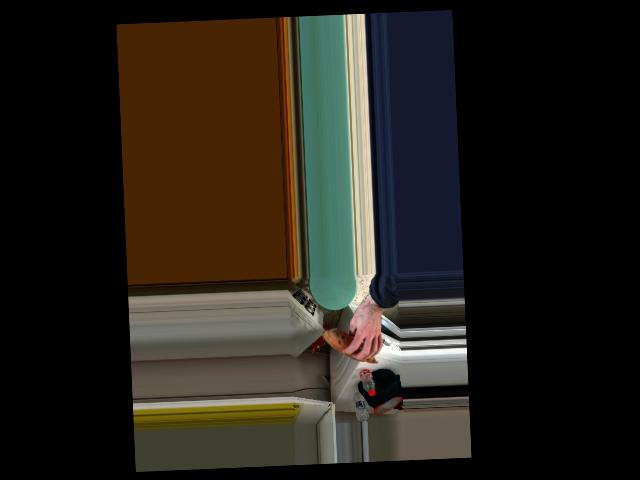sweet_potato: (324, 326, 380, 363)
